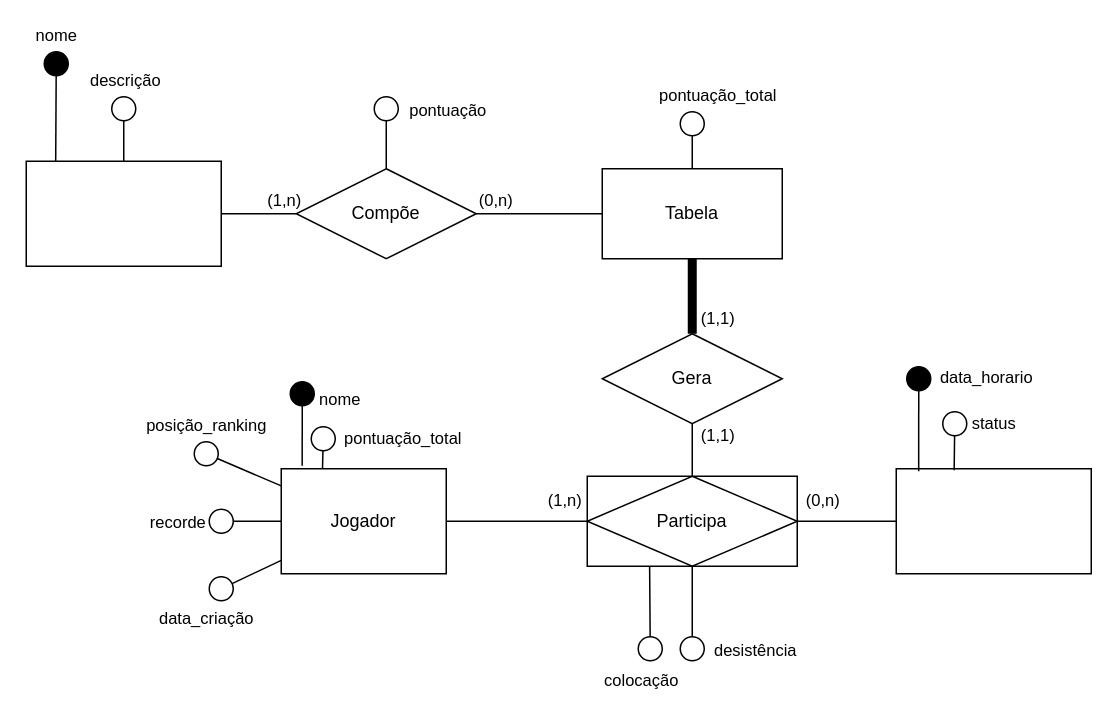
Image size: 1118x717. Some labels were removed from this diagram. The centre of each missing label's shape, as x and y in pixels:
Categoria: the point at 123,213
Partida: the point at 993,520
